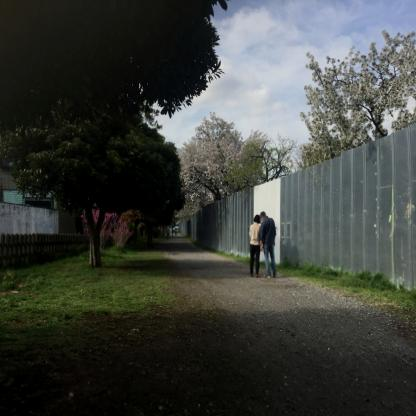Someiyoshino: (170, 108, 275, 224)
